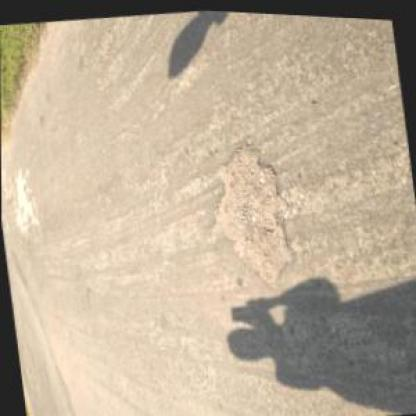pothole: (198, 130, 301, 294)
